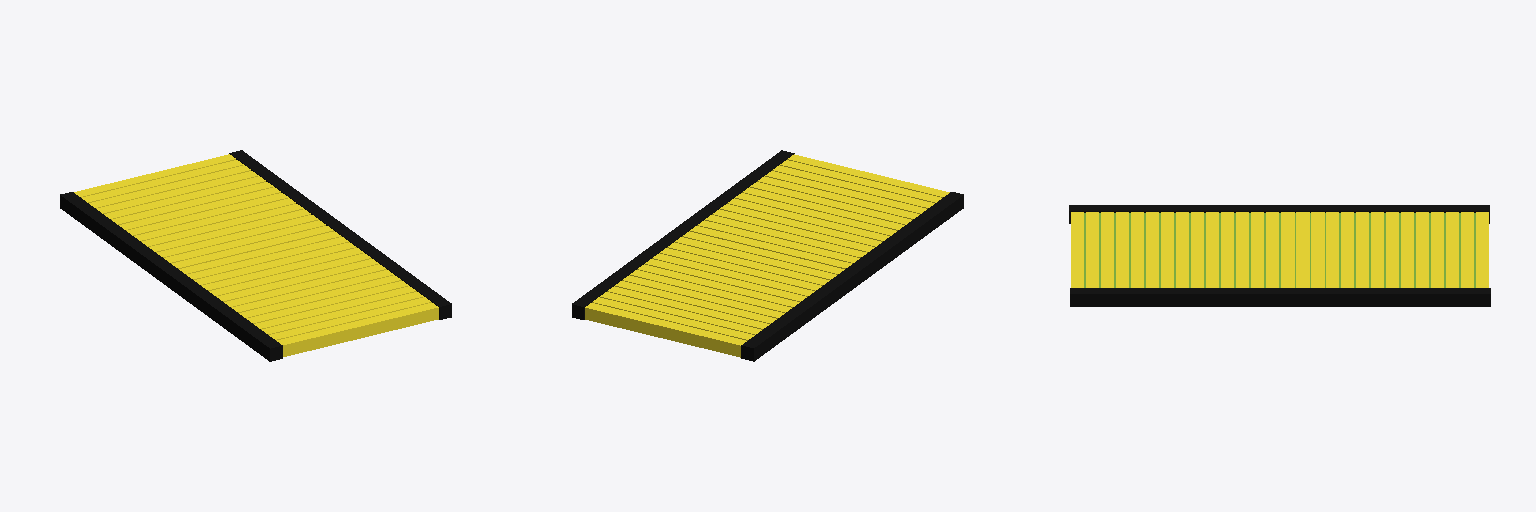
3 views of the same model, side by side, from view 1: azimuth 30°, elevation 25°; view 2: azimuth 150°, elevation 25°; view 3: azimuth 270°, elevation 25° (orthographic).
Parts seen in each view (by area): view 1: group[number redacted], group[number redacted], group[number redacted], group[number redacted], group[number redacted], group[number redacted], group[number redacted], group[number redacted], group[number redacted], group[number redacted], group[number redacted], group[number redacted] (+18 smaller); view 2: group[number redacted], group[number redacted], group[number redacted], group[number redacted], group[number redacted], group[number redacted], group[number redacted], group[number redacted], group[number redacted], group[number redacted], group[number redacted], group[number redacted] (+18 smaller); view 3: group[number redacted], group[number redacted], group[number redacted], group[number redacted], group[number redacted], group[number redacted], group[number redacted], group[number redacted], group[number redacted], group[number redacted], group[number redacted], group[number redacted] (+19 smaller).
Part boxes in pixels (x1,y1,x2,y2): group[number redacted]: (60,192,282,361); group[number redacted]: (229,150,451,319); group[number redacted]: (277,303,438,356); group[number redacted]: (172,226,333,268); group[number redacted]: (112,182,273,224); group[number redacted]: (127,193,288,235); group[number redacted]: (179,231,341,274); group[number redacted]: (209,253,371,296); group[number redacted]: (74,154,235,197); group[number redacted]: (142,204,303,246); group[number redacted]: (157,215,318,257); group[number redacted]: (194,242,356,285); group[number redacted]: (741,192,963,361); group[number redacted]: (572,150,794,319); group[number redacted]: (585,303,746,357); group[number redacted]: (690,226,851,268); group[number redacted]: (592,297,754,340); group[number redacted]: (727,198,889,241); group[number redacted]: (750,182,911,224); group[number redacted]: (765,171,926,213); group[number redacted]: (780,160,941,202); group[number redacted]: (630,270,791,312); group[number redacted]: (660,248,821,290); group[number redacted]: (675,237,836,279); group[number redacted]: (1070,288,1490,306); group[number redacted]: (1084,213,1475,287); group[number redacted]: (1069,205,1489,223); group[number redacted]: (1311,212,1324,287); group[number redacted]: (1296,212,1309,287); group[number redacted]: (1281,212,1294,287); group[number redacted]: (1266,212,1278,287); group[number redacted]: (1206,212,1218,287); group[number redacted]: (1236,212,1248,287); group[number redacted]: (1221,212,1233,287); group[number redacted]: (1251,212,1263,287); group[number redacted]: (1191,212,1203,287).
Size of the model in its own units: 0.4304 by 0.03 by 0.8607.